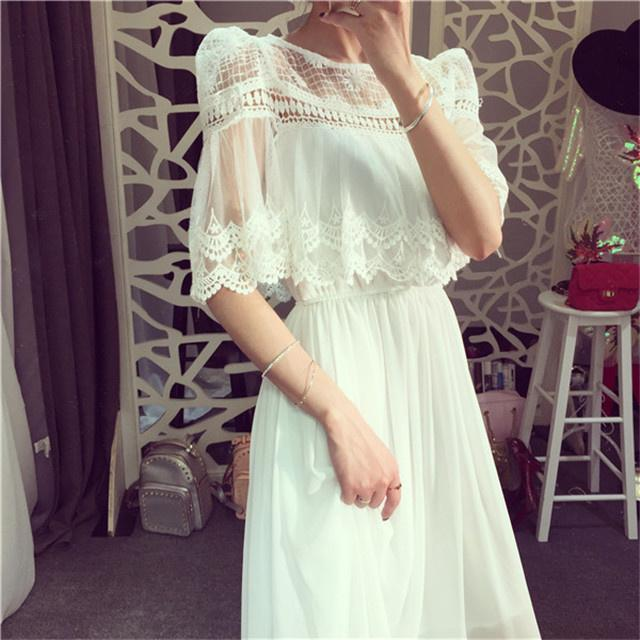long-sleeve-dress: (160, 28, 538, 618)
